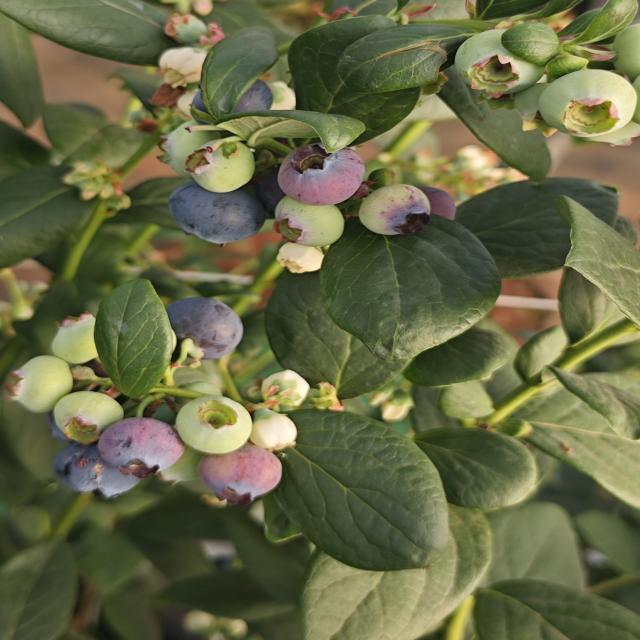ripe: (165, 179, 267, 247), (51, 434, 143, 499), (164, 295, 246, 362), (185, 73, 278, 128)
